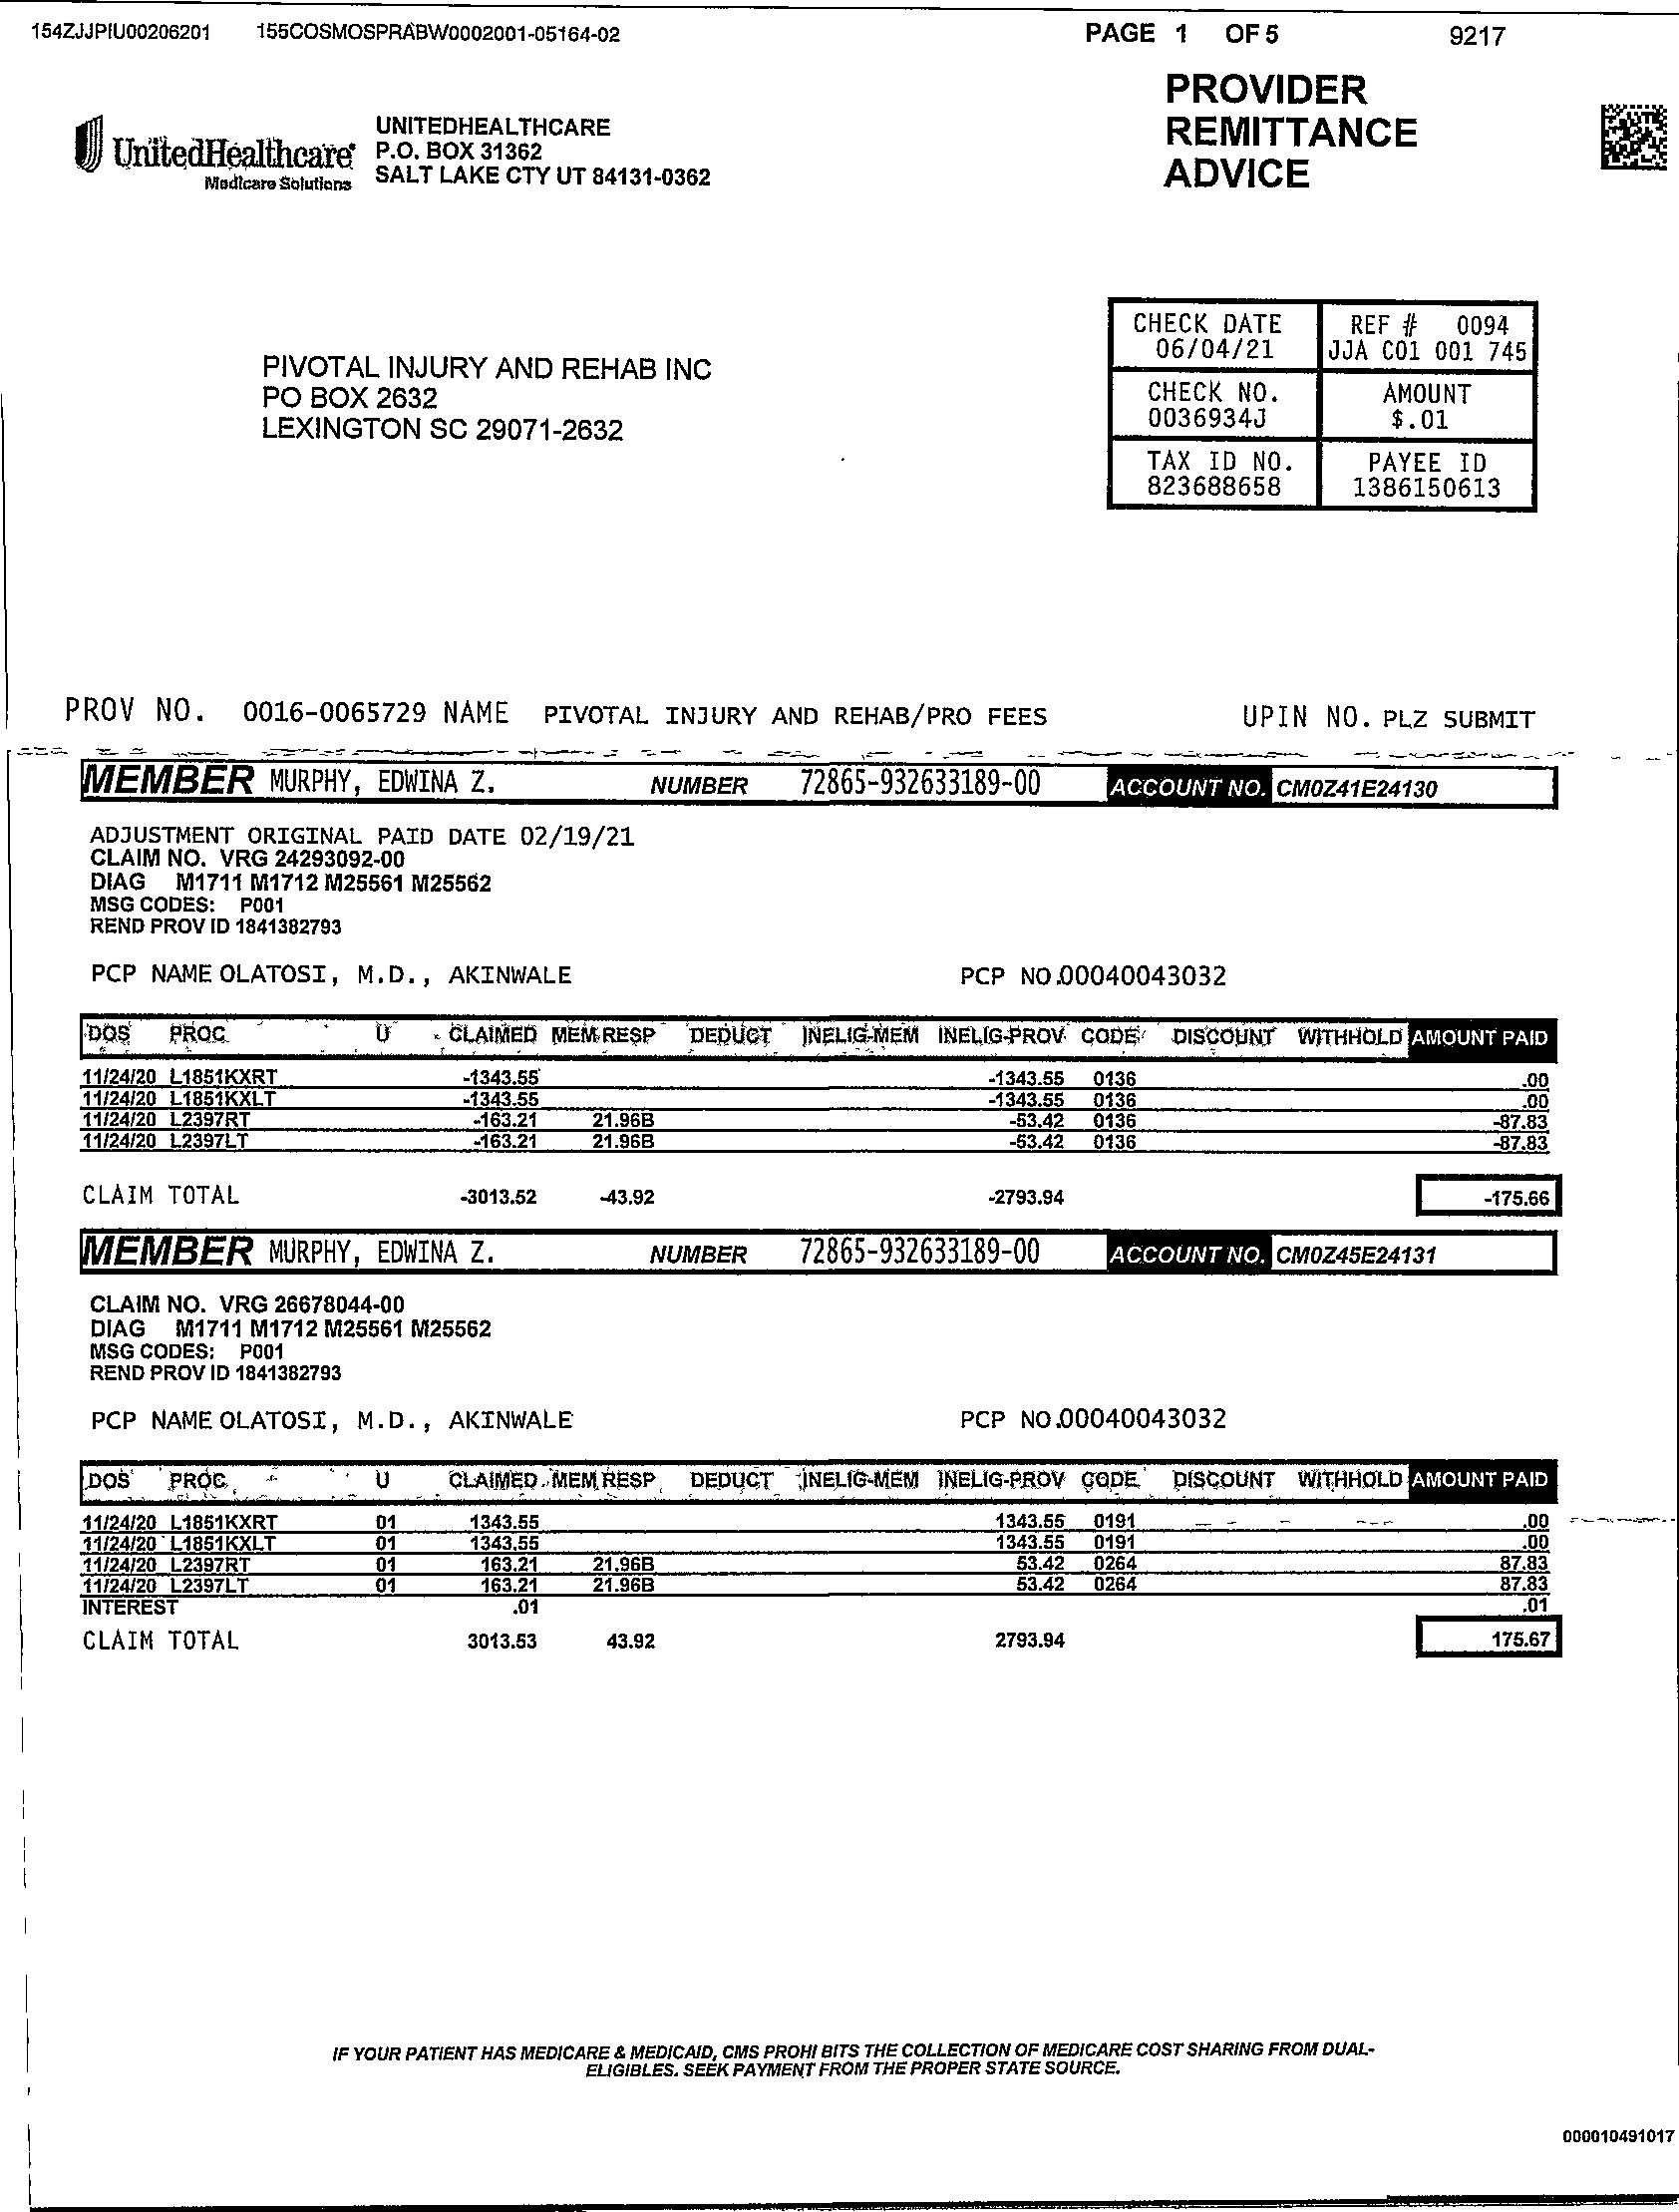data: (62, 736, 1577, 822), (69, 1210, 1571, 1297), (76, 813, 647, 956), (79, 1282, 548, 1402)
table: (56, 993, 1571, 1175), (62, 1439, 1575, 1619), (1079, 284, 1552, 533)
